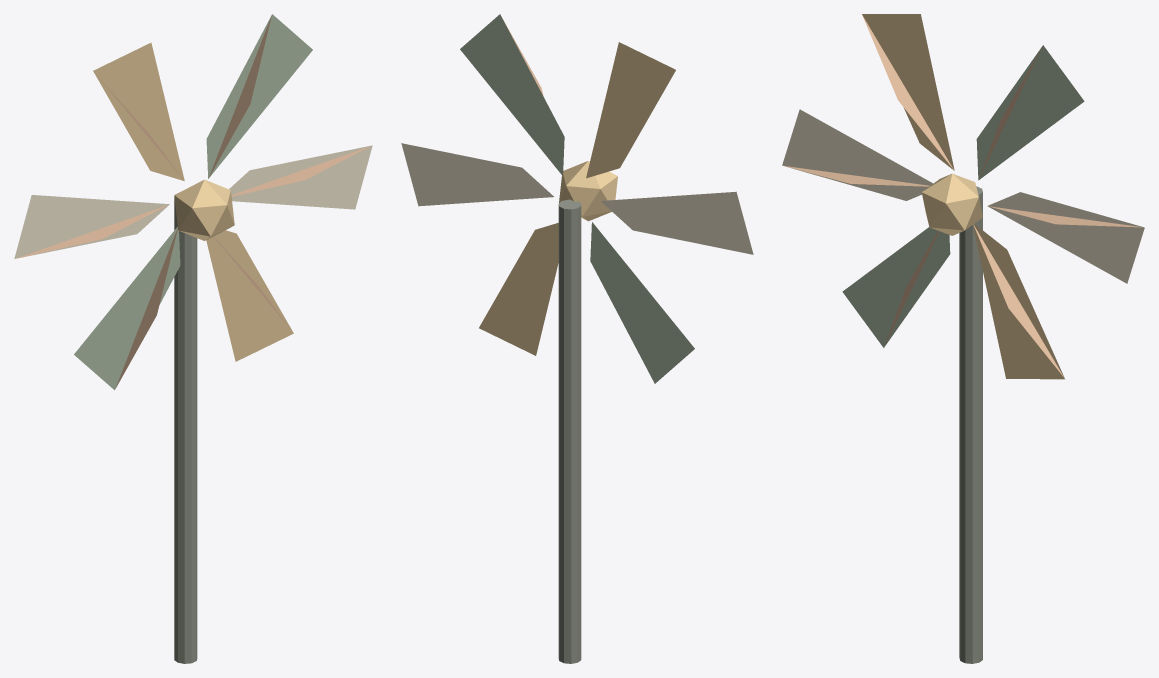
Rendered from garden_pinwheel.fbx.
3 renders of one model, left to right at view 1: azimuth 30°, elevation 25°; view 2: azimuth 150°, elevation 25°; view 3: azimuth 330°, elevation 25°, orthographic. The views are drawn at different scales.
Visible parts, largest first — view 1: garden_pinwheel_geometry.001, garden_pinwheel_geometry; view 2: garden_pinwheel_geometry.001, garden_pinwheel_geometry; view 3: garden_pinwheel_geometry.001, garden_pinwheel_geometry.
Boxes of the visible parts, x1=… form: garden_pinwheel_geometry.001: x1=14, y1=14, x2=372, y2=390; garden_pinwheel_geometry: x1=174, y1=179, x2=234, y2=663; garden_pinwheel_geometry.001: x1=401, y1=14, x2=753, y2=383; garden_pinwheel_geometry: x1=558, y1=161, x2=617, y2=663; garden_pinwheel_geometry.001: x1=782, y1=14, x2=1144, y2=379; garden_pinwheel_geometry: x1=921, y1=173, x2=982, y2=663.
Bounding box in the file's own units: 1.22 × 2.05 × 0.2301.
